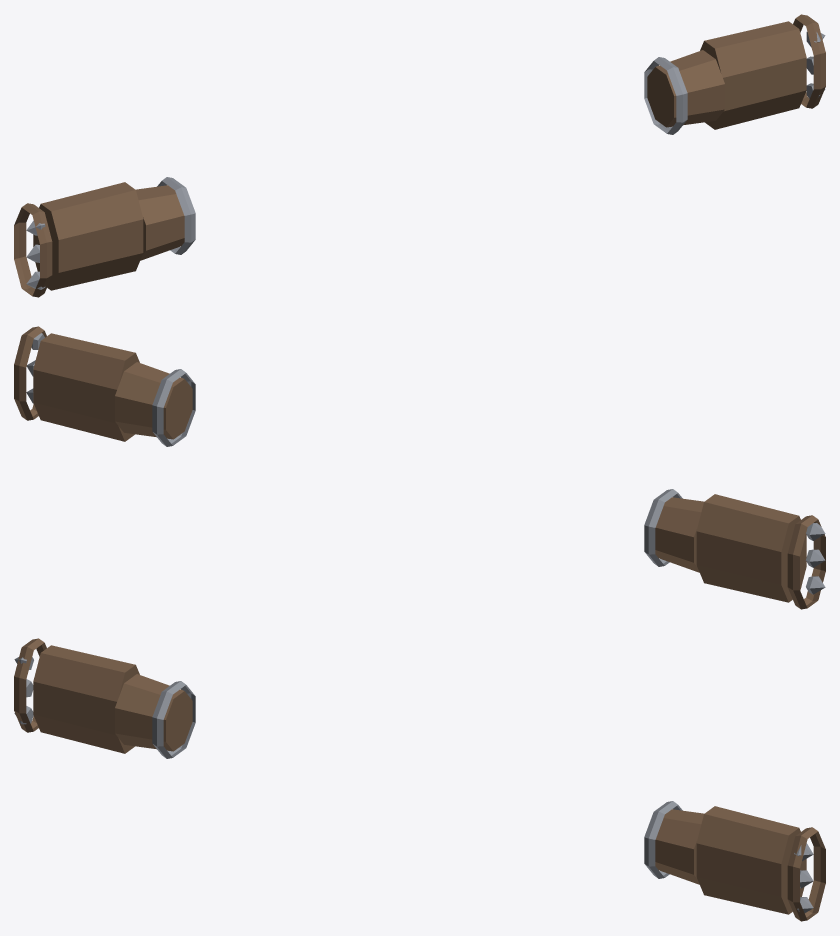
File: studdedcestus.glb
3 views of the same model, one above another, from view 1: azimuth 30°, elevation 25°; view 2: azimuth 150°, elevation 25°; view 3: azimuth 330°, elevation 25° (orthographic).
Parts seen in each view (by area): view 1: Fist1R, Fist1L, LowerArmL, LowerArmR, Fist2R, Fist2L; view 2: Fist1R, Fist1L, LowerArmL, LowerArmR, Fist2R, Fist2L; view 3: Fist1L, Fist1R, LowerArmR, LowerArmL, Fist2L, Fist2R.
Part boxes in pixels (left/top/right/bottom): Fist1R: left=33, top=182, right=143, bottom=290; Fist1L: left=700, top=21, right=806, bottom=129; LowerArmL: left=644, top=50, right=724, bottom=134; LowerArmR: left=136, top=177, right=195, bottom=260; Fist2R: left=14, top=203, right=52, bottom=297; Fist2L: left=793, top=14, right=825, bottom=108; Fist1R: left=696, top=494, right=806, bottom=602; Fist1L: left=33, top=333, right=139, bottom=441; LowerArmL: left=115, top=362, right=195, bottom=446; LowerArmR: left=644, top=489, right=703, bottom=572; Fist2R: left=787, top=515, right=825, bottom=609; Fist2L: left=14, top=326, right=46, bottom=420; Fist1L: left=696, top=806, right=806, bottom=914; Fist1R: left=33, top=645, right=139, bottom=753; LowerArmR: left=115, top=674, right=195, bottom=758; LowerArmL: left=644, top=801, right=703, bottom=884; Fist2L: left=787, top=827, right=825, bottom=921; Fist2R: left=14, top=638, right=46, bottom=732.
Bounding box in the file's own units: 3.12 × 0.3208 × 0.2326.
